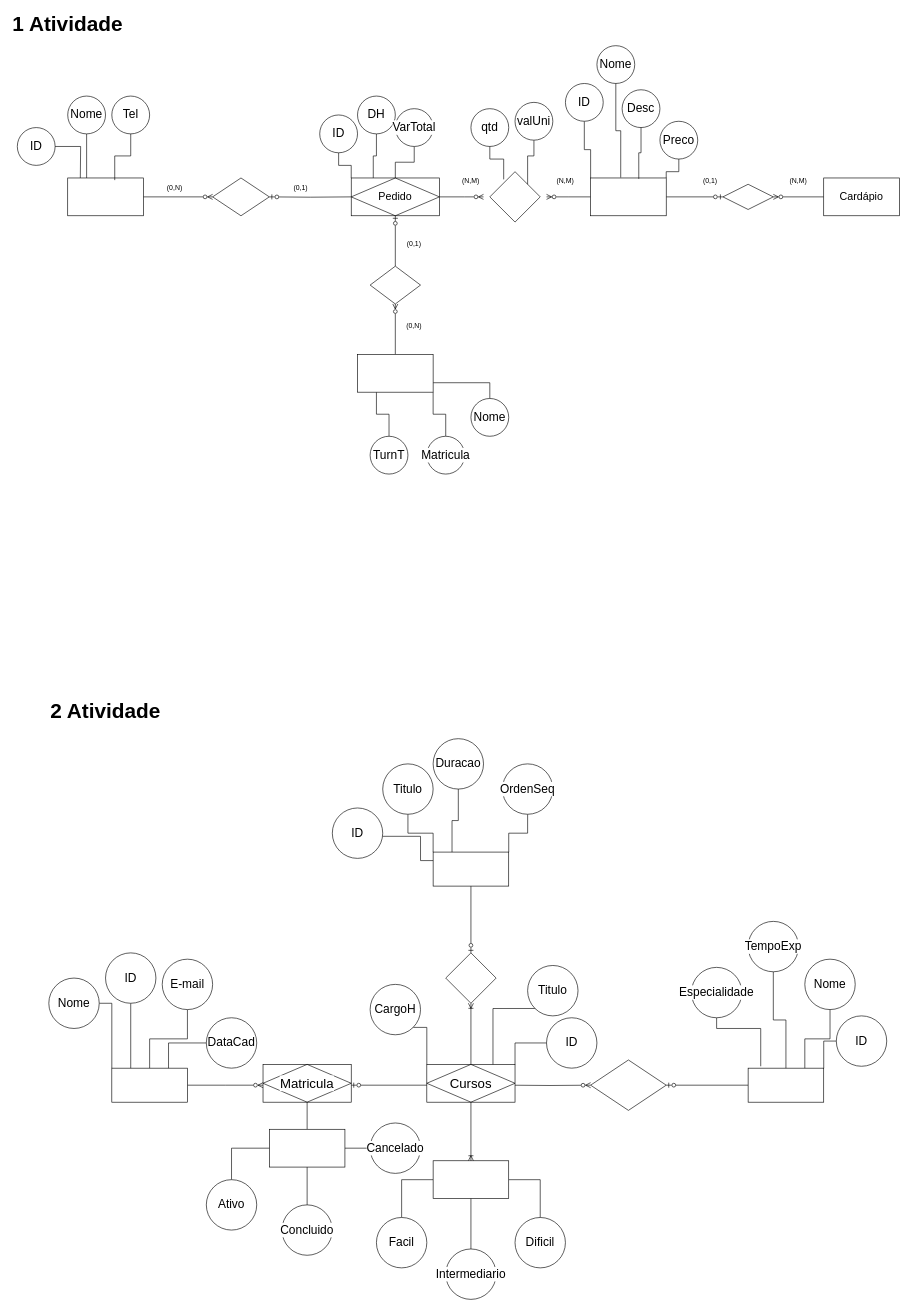
The diagram is 910 pixels wide and 1310 high, and some of its shapes have lost their labels. The shapes that lost their labels are listed below. From the top down, each one's centre as x and y in pixels, then its label:
At pixel 105 196: "Cliente".
At pixel 240 196: "Fazer".
At pixel 514 196: "ItemPedido".
At pixel 628 196: "Itens".
At pixel 747 196: "Estar".
At pixel 395 285: "Atende".
At pixel 395 373: "Garçom".
At pixel 470 868: "Aulas".
At pixel 470 977: "Possui".
At pixel 149 1085: "Aluno".
At pixel 628 1084: "Ministra".
At pixel 785 1085: "Instrutor".
At pixel 307 1148: "Status".
At pixel 470 1179: "Nivel".
